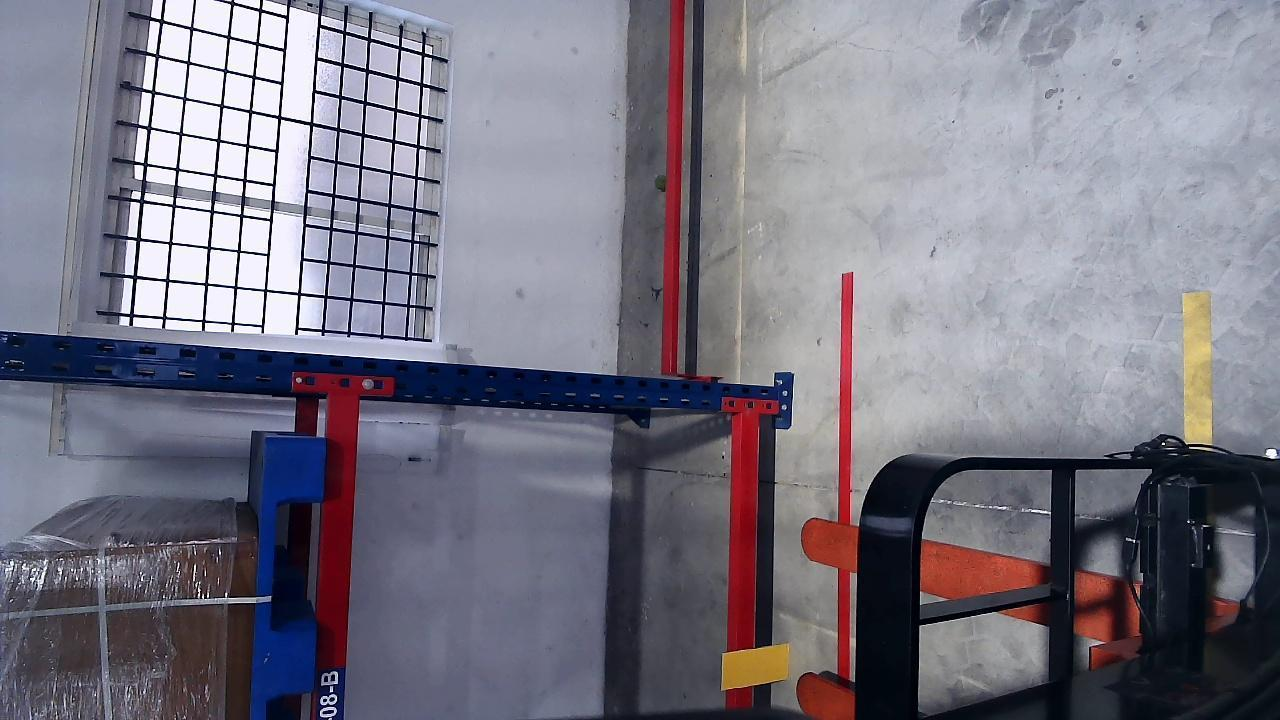red_line: (837, 271, 855, 683)
yellow_line: (1182, 291, 1214, 446)
